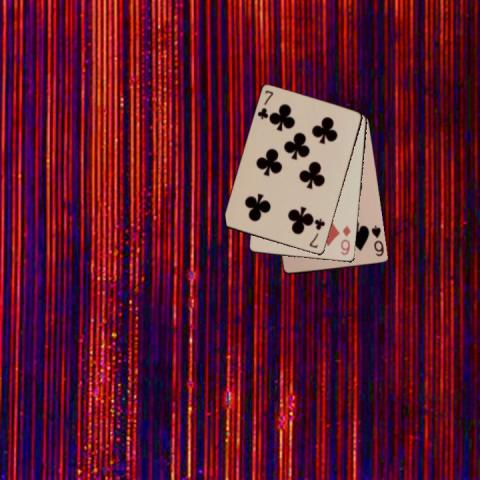6d: (338, 222, 352, 256)
6s: (369, 223, 385, 258)
7c: (306, 216, 327, 249), (254, 87, 274, 121)
